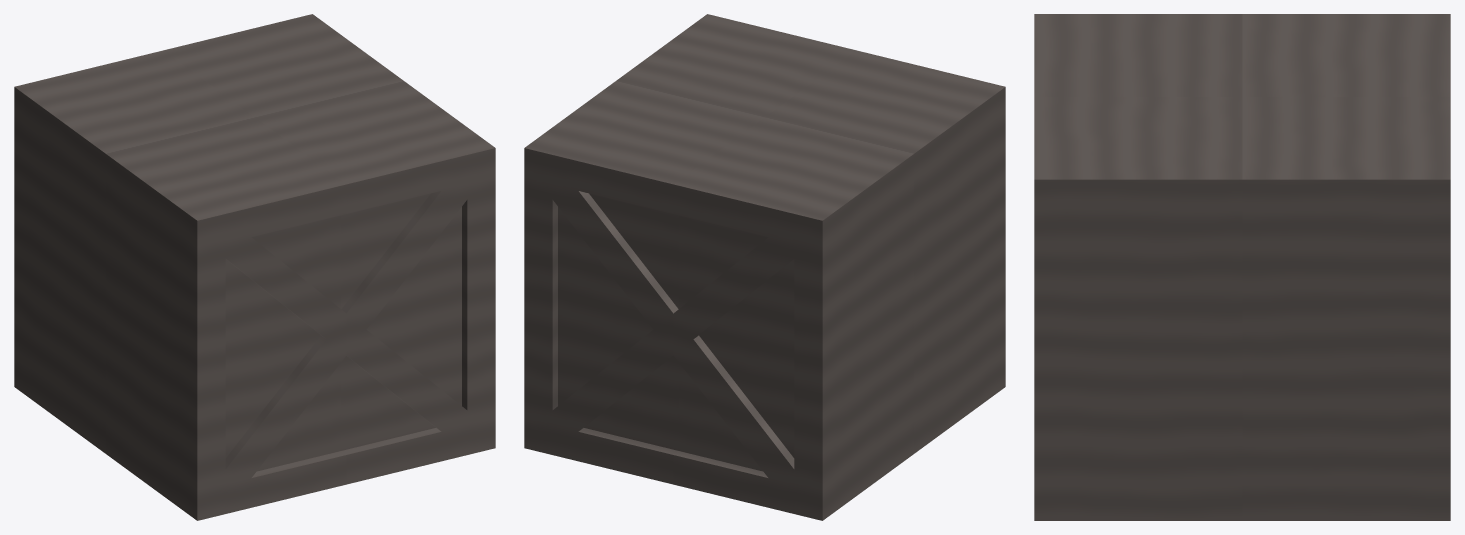
Rendered from SM_Souq_Crate.fbx.
3 renders of one model, left to right at view 1: azimuth 30°, elevation 25°; view 2: azimuth 150°, elevation 25°; view 3: azimuth 270°, elevation 25°, orthographic. The views are drawn at different scales.
Visible parts, largest first — view 1: SM_Souq_Crate; view 2: SM_Souq_Crate; view 3: SM_Souq_Crate.
Boxes of the visible parts, box(x1,y1,x2,y2) form: SM_Souq_Crate: box(14, 14, 495, 520); SM_Souq_Crate: box(524, 14, 1005, 520); SM_Souq_Crate: box(1034, 14, 1450, 520).
Bounding box in the file's own units: 63.24 × 60.81 × 67.24.
1 material, 1 textured.
